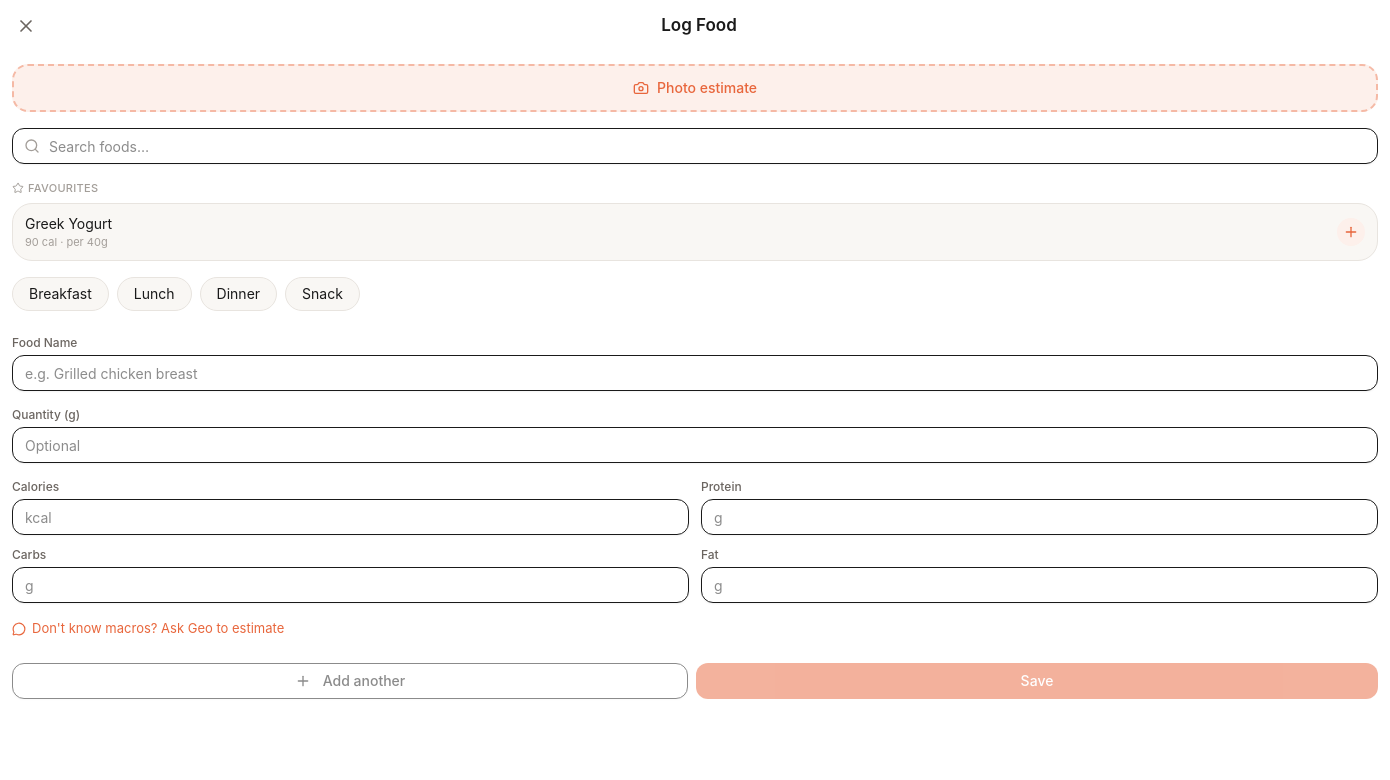
Test: FoodLogForm — R6-12 full-page logging (favourites/recents-first) › hides Your Foods once the user starts typing a search
Check: the element with test id "your-foods" is shown, box [12, 180, 1378, 261]
Type "chicken" into the field with test id "food-search-input" at (695, 146), box [12, 128, 1378, 164]
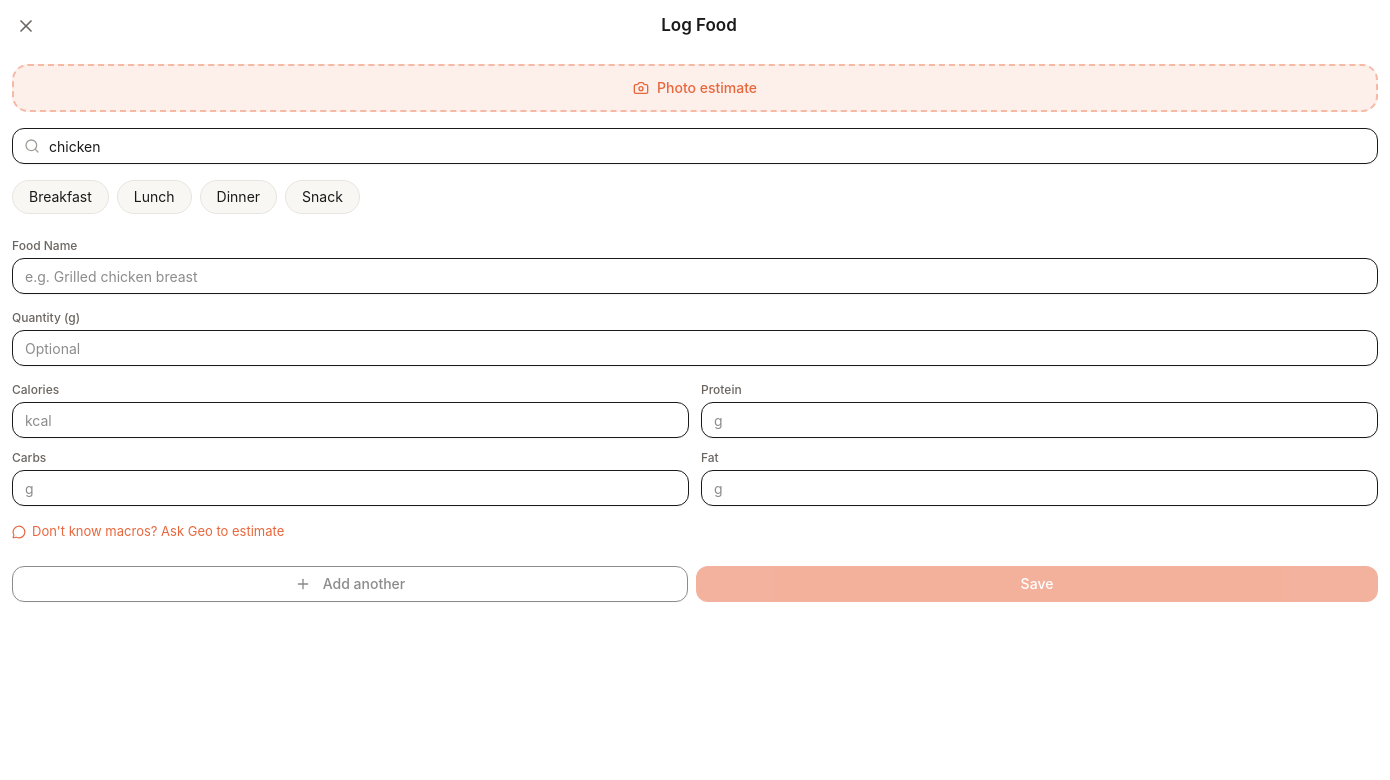
Check: the element with test id "your-foods" is gone
